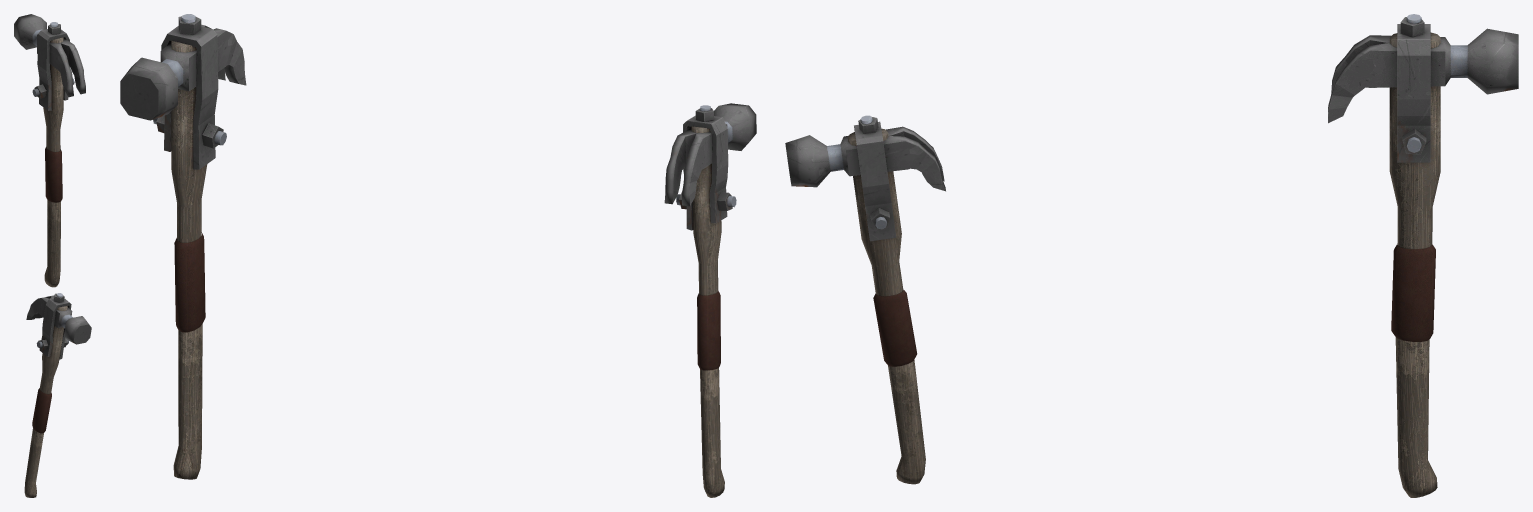
File: HammerBasic.glb
3 views of the same model, side by side, from view 1: azimuth 30°, elevation 25°; view 2: azimuth 150°, elevation 25°; view 3: azimuth 270°, elevation 25° (orthographic). The views are drawn at different scales.
Visible parts, largest first — view 1: WorldModel, hammer; view 2: WorldModel, hammer; view 3: WorldModel, hammer.
Part boxes in pixels (x1,y1,x2,y2): WorldModel: (14, 14, 85, 287); hammer: (24, 293, 91, 497); WorldModel: (120, 14, 246, 479); hammer: (664, 103, 756, 497); WorldModel: (1328, 14, 1518, 497); hammer: (785, 115, 945, 484).
Size of the model in its own units: 0.5301 by 0.9138 by 0.9974.
Materials: 1 (1 with a texture image).
